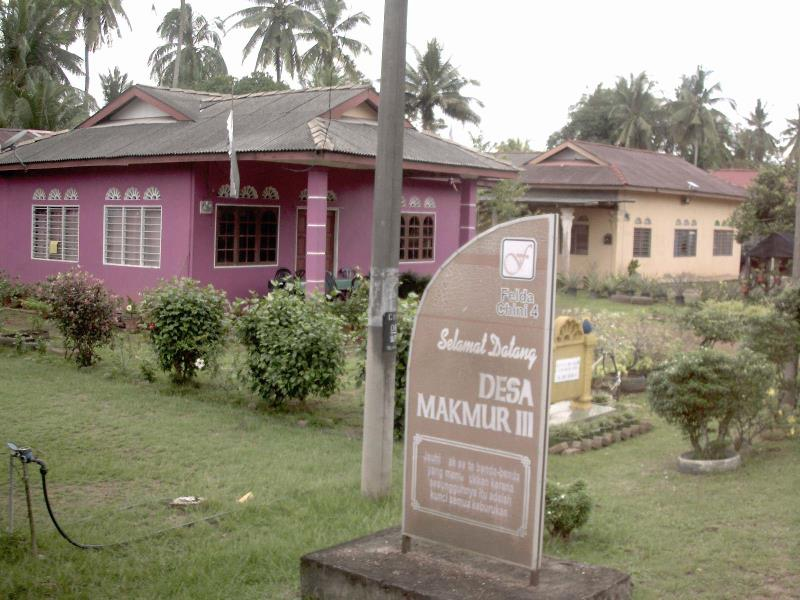ads_sign: (376, 231, 571, 578)
